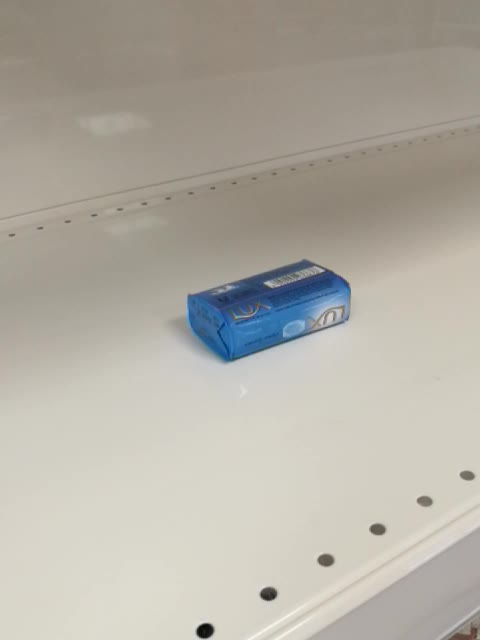soap: (186, 257, 353, 365)
